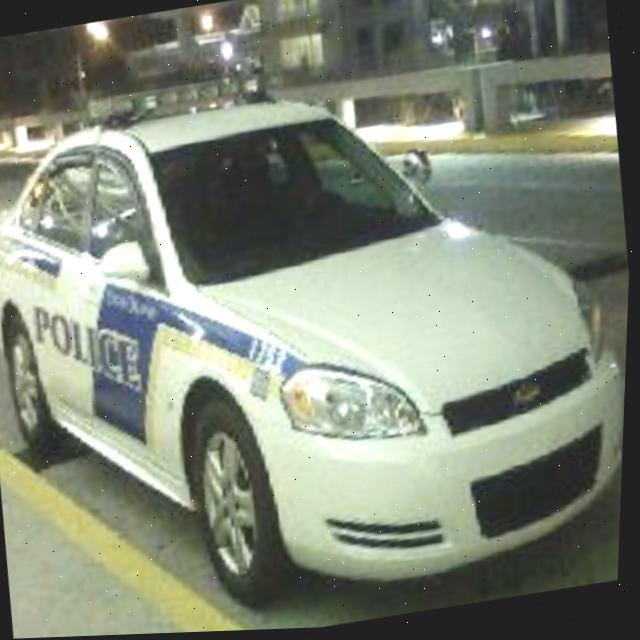emergency: (0, 42, 638, 640)
